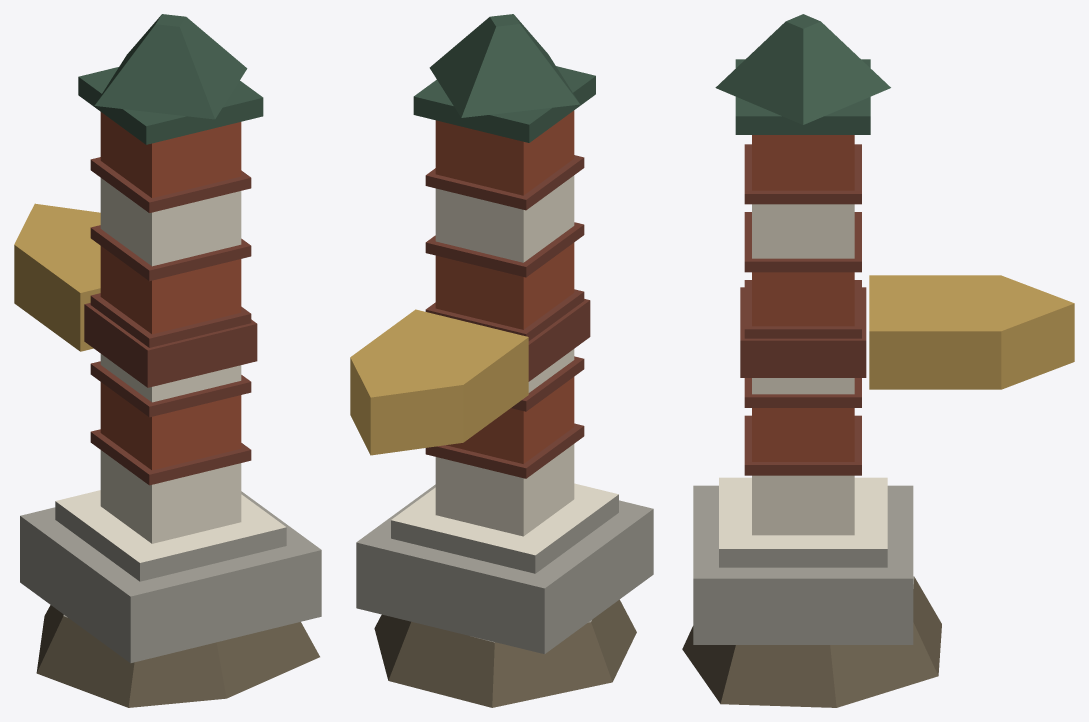
The model's file is tide-post.glb.
3 views of the same model, side by side, from view 1: azimuth 30°, elevation 25°; view 2: azimuth 150°, elevation 25°; view 3: azimuth 270°, elevation 25° (orthographic).
Visible parts, largest first — view 1: Post, Pointer; view 2: Post, Pointer; view 3: Post, Pointer.
Boxes of the visible parts, box(x1,y1,x2,y2) form: Post: box(20, 14, 321, 707); Pointer: box(14, 203, 257, 387); Post: box(356, 14, 653, 707); Pointer: box(350, 299, 590, 455); Post: box(682, 14, 941, 707); Pointer: box(740, 275, 1074, 389).
Size of the model in its own units: 1.86 by 4.74 by 2.68.
1 material, 1 textured.
